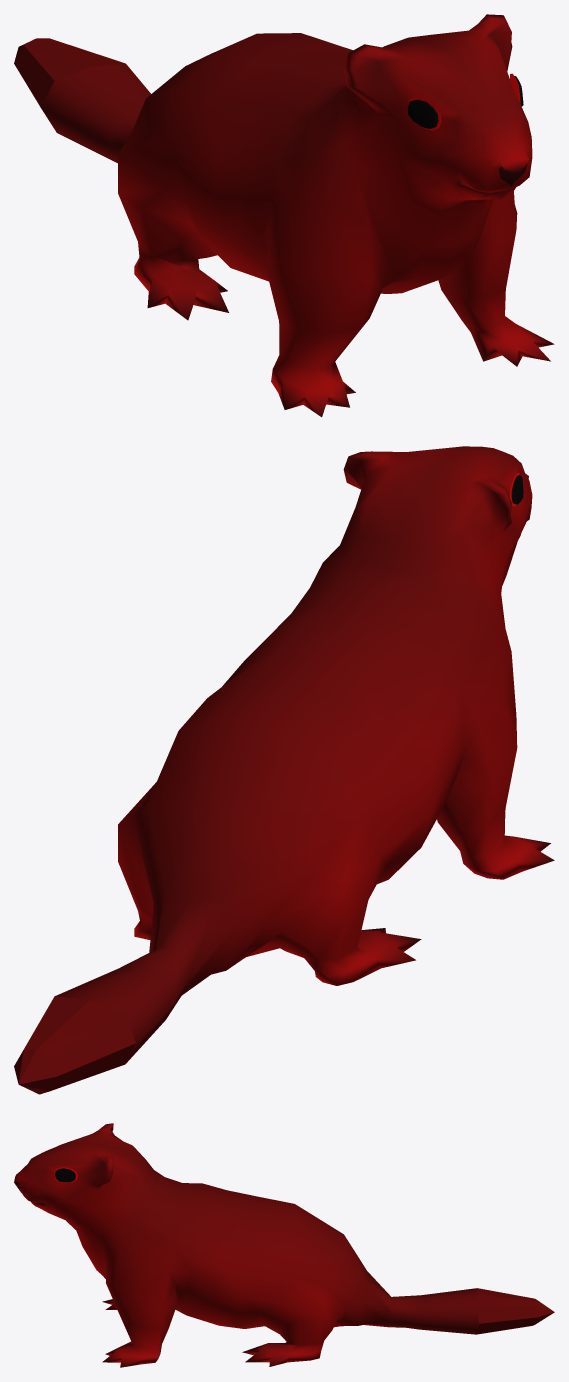
File: Animals_Marmot.fbx
The picture shows the model from 3 angles, top to bottom: view 1: azimuth 30°, elevation 25°; view 2: azimuth 150°, elevation 25°; view 3: azimuth 270°, elevation 25°; orthographic projection. The views are drawn at different scales.
Visible parts, largest first — view 1: base; view 2: base; view 3: base.
Boxes of the visible parts, left/top/right/bottom form: base: left=14, top=14, right=554, bottom=417; base: left=14, top=446, right=554, bottom=1094; base: left=14, top=1123, right=554, bottom=1367.
Bounding box in the file's own units: 35.37 × 44.09 × 113.
